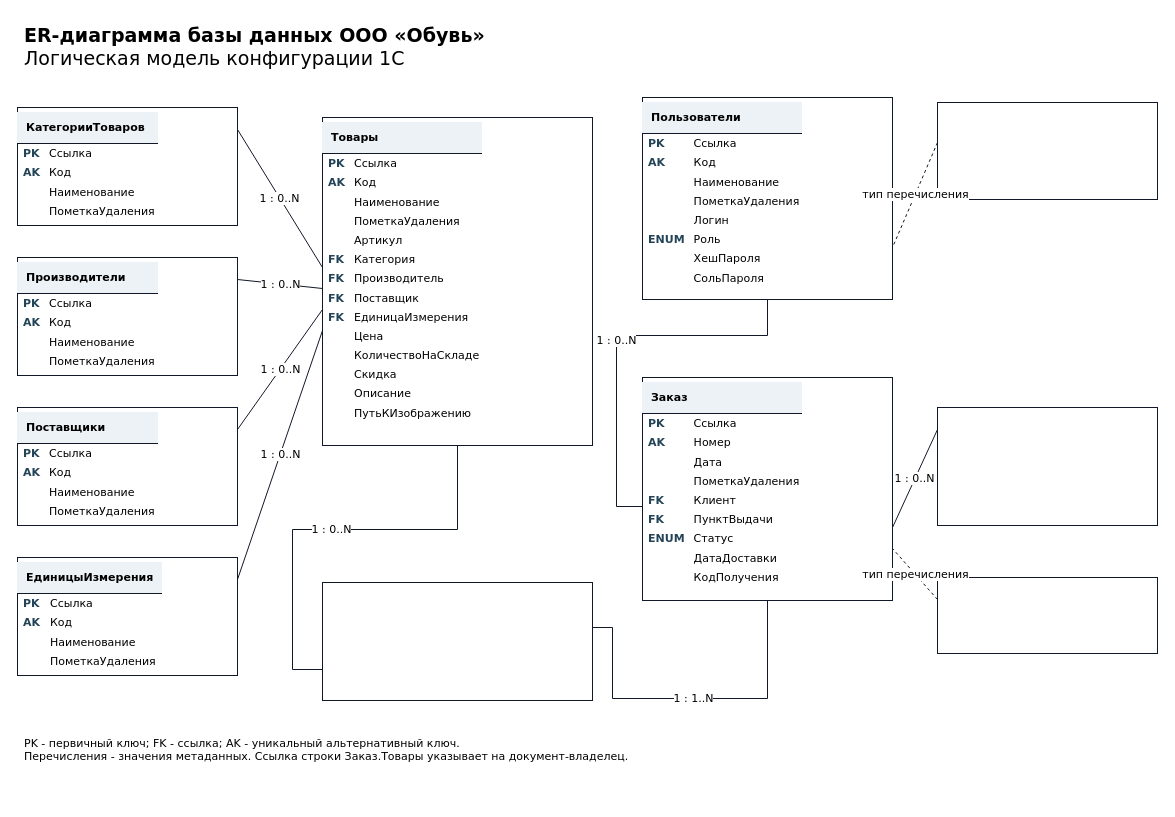
Image size: 1175x817. Some labels were removed from this diagram. Here are the shapes that lost their labels. From the top down, the centre of each, then its label:
At [1047,151]: "РолиПользователей Администратор Менеджер Клиент".
At [1047,466]: "ПунктыВыдачи PK Ссылка AK Код Наименование ПометкаУдаления".
At [1047,615]: "СтатусыЗаказов Новый Завершен".
At [457,641]: "Заказ.Товары PK,FK Ссылка PK НомерСтроки FK Товар Количество".
